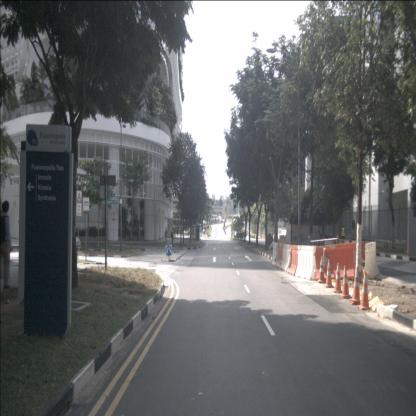barrier: (314, 242, 356, 280), (295, 245, 318, 281), (361, 240, 380, 280), (288, 244, 301, 276), (280, 244, 292, 273), (274, 242, 286, 268), (270, 242, 280, 266)
cone: (358, 270, 370, 311), (350, 266, 361, 302), (340, 265, 351, 298), (332, 262, 343, 293), (324, 259, 334, 288), (317, 256, 326, 284)
